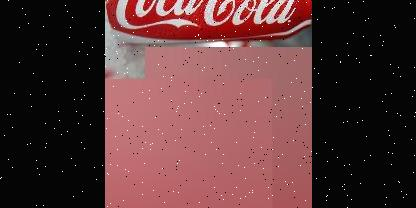Can: (104, 0, 311, 44)
